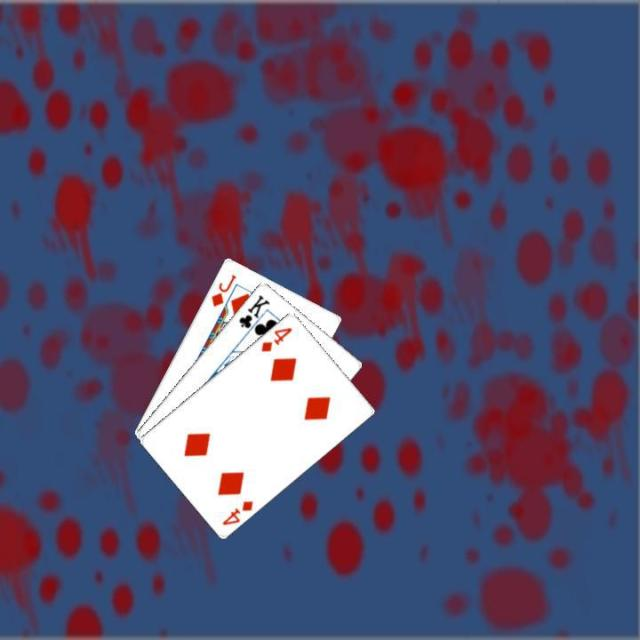4D: (257, 322, 294, 353), (218, 496, 255, 527)
JD: (207, 270, 238, 308)
KC: (235, 290, 272, 338)
